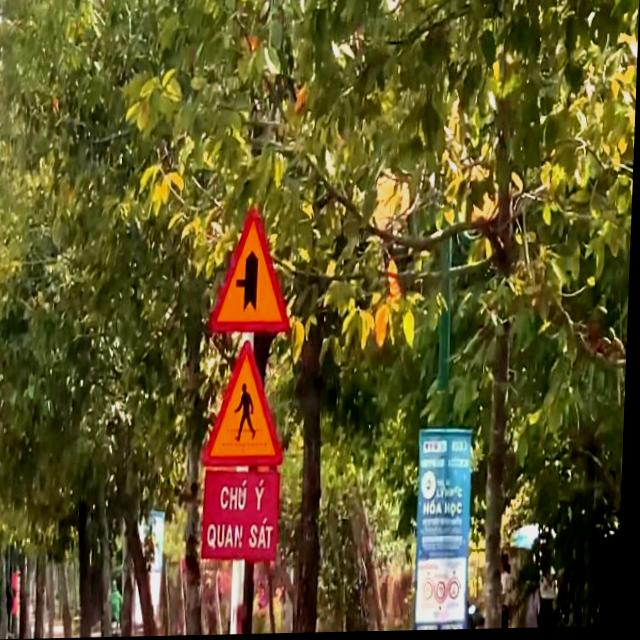Giao nhau voi duong khong uu tien ben trai: (204, 195, 299, 343)
Nguoi di bo cat ngang: (199, 335, 293, 476)
